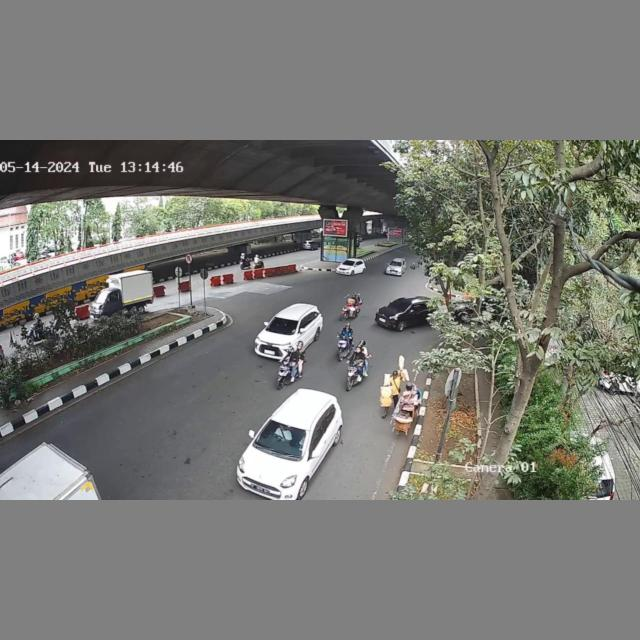windshield: (255, 421, 310, 458), (266, 316, 299, 336)
